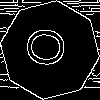O: (25, 25, 76, 71)
